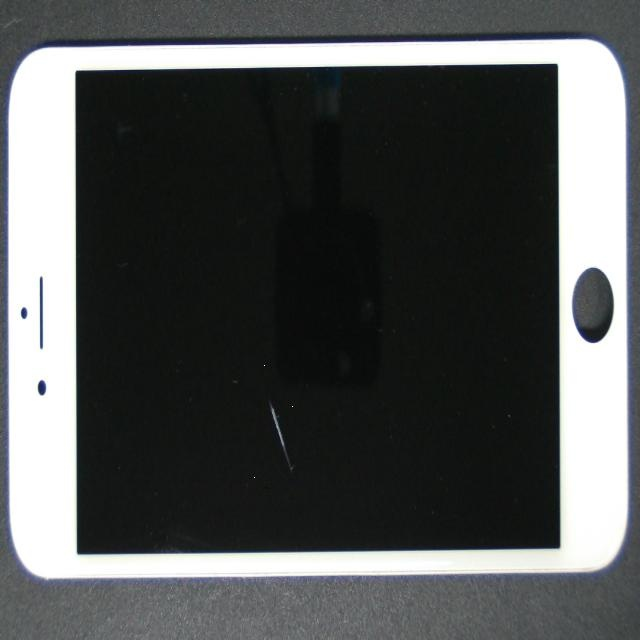scratch: (106, 151, 401, 640)
